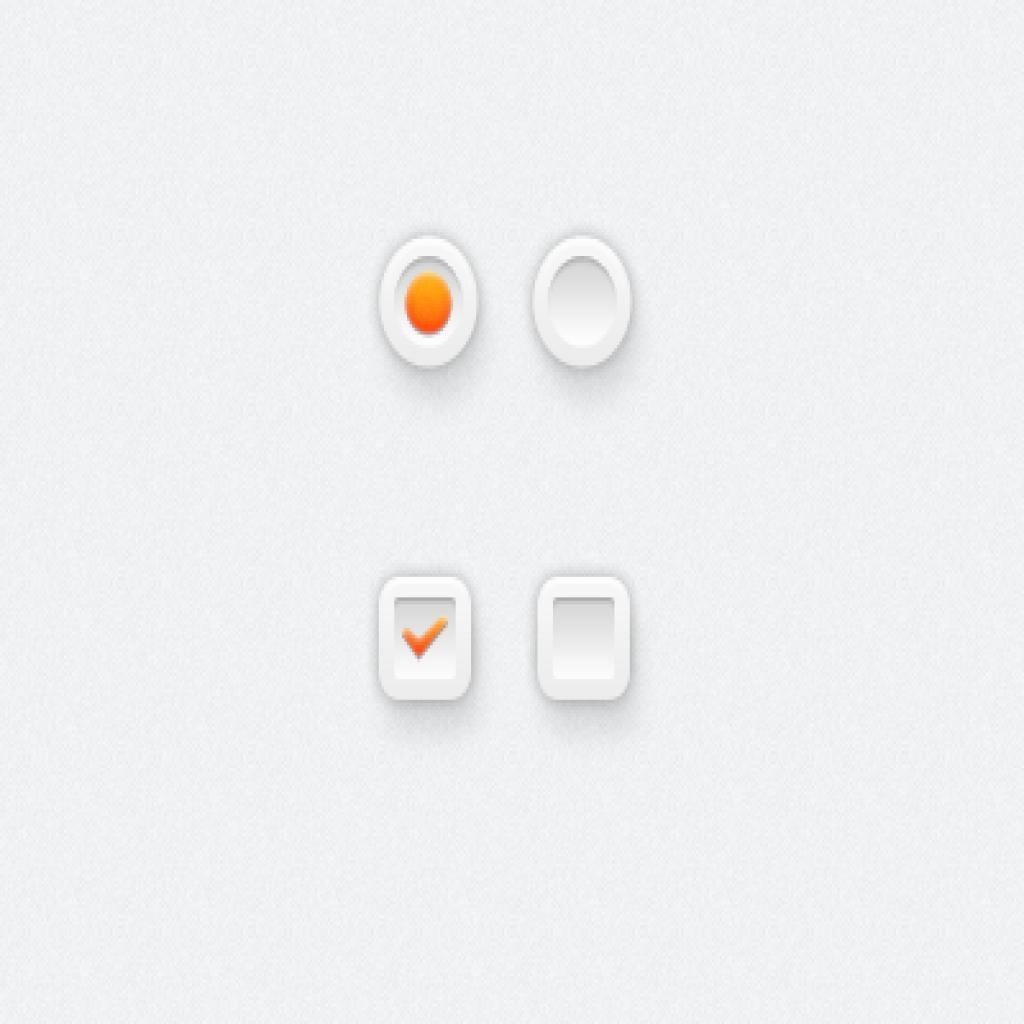checkbox: (376, 578, 474, 705), (536, 578, 633, 698)
radio: (380, 236, 483, 373), (534, 235, 634, 374)
